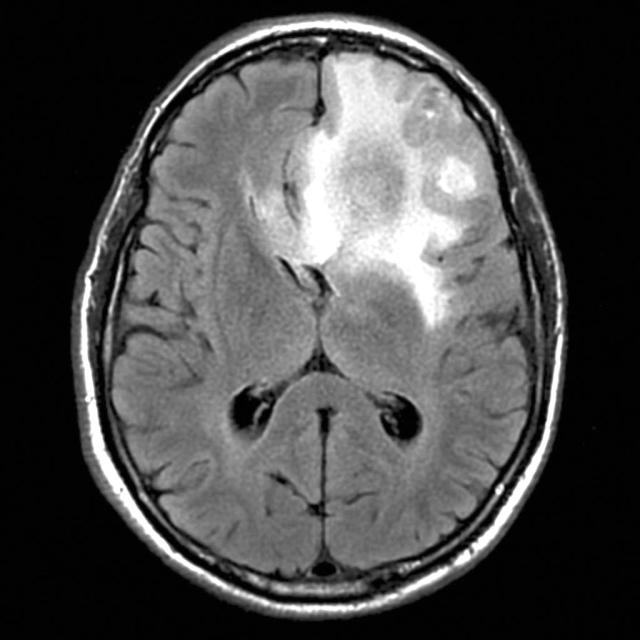Tumor-Cell: (297, 63, 478, 307)
